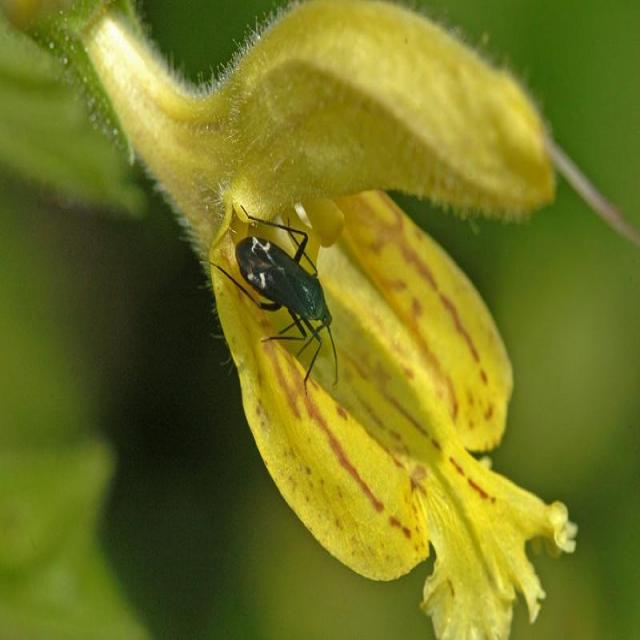Miridae-Adult-: (201, 202, 347, 394)
